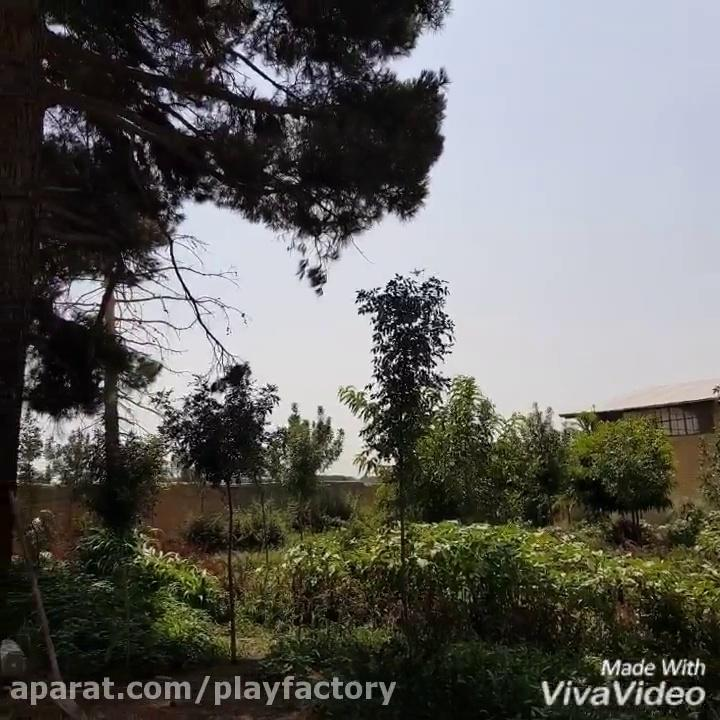drone: (406, 260, 429, 280)
